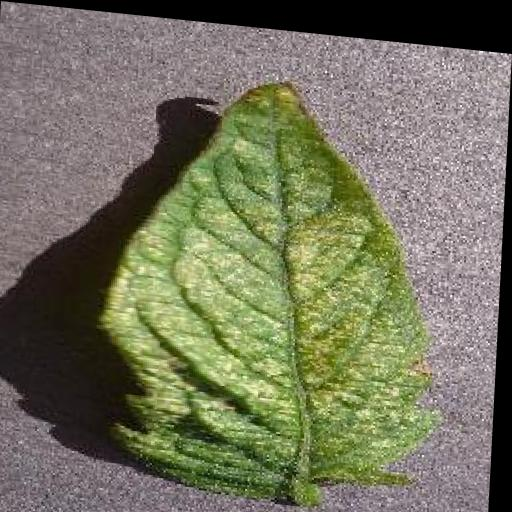Spider Mites: (91, 58, 451, 511)
